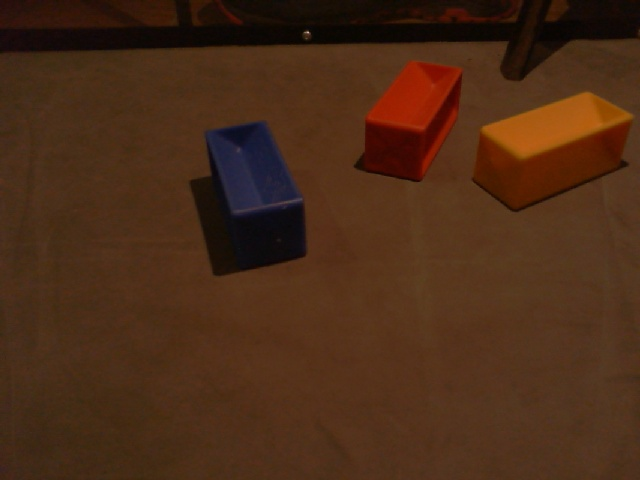BlueSample: (204, 120, 309, 268)
RedSample: (356, 61, 465, 185)
YellowSample: (471, 91, 635, 212)
